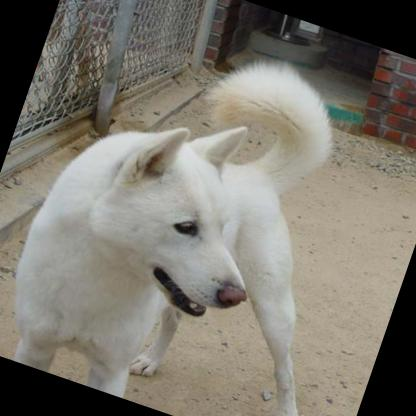Eskimo_dog: (0, 5, 412, 416)
